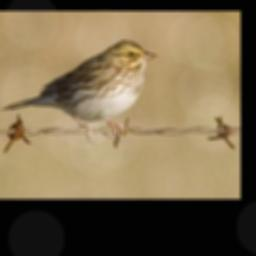Sparrow: (1, 36, 160, 143)
